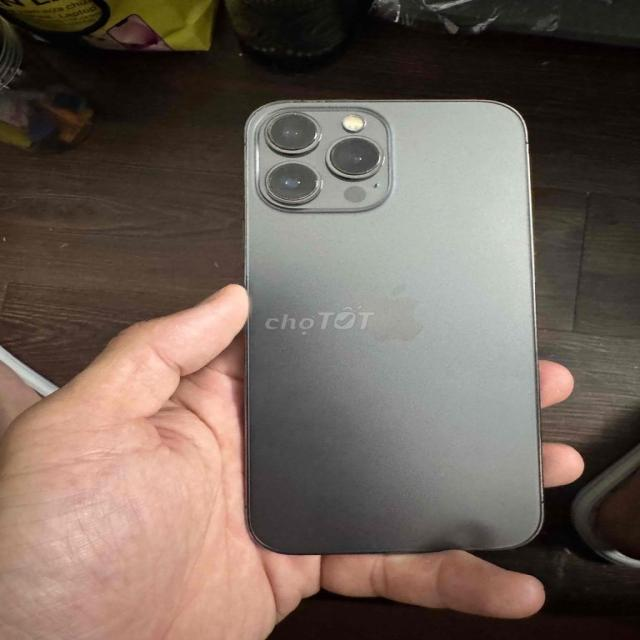gen_12_13: (233, 93, 552, 560)
